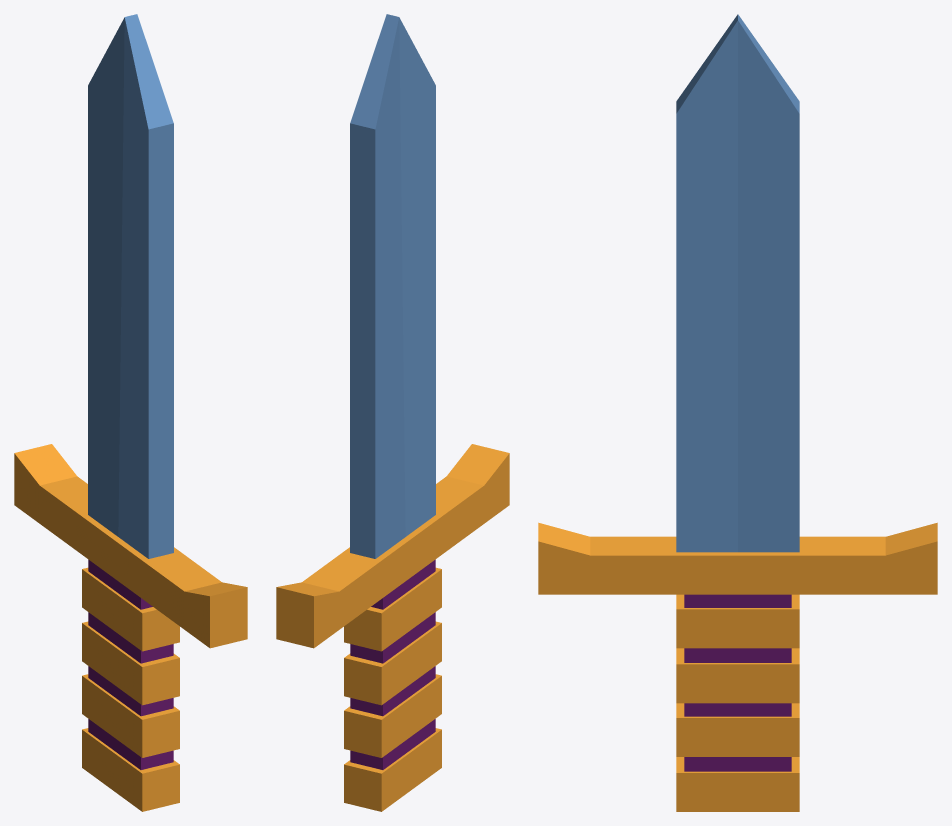
The model's file is diamondSword.glb.
The picture shows the model from 3 angles, left to right: view 1: azimuth 30°, elevation 25°; view 2: azimuth 150°, elevation 25°; view 3: azimuth 270°, elevation 25°; orthographic projection. The views are drawn at different scales.
Visible parts, largest first — view 1: Cube.009, Cube.008, Cube.002, Cube.006, Cube.001, Cube.005, Cube, Cube.007, Cube.003, Cube.004; view 2: Cube.009, Cube.008, Cube.002, Cube.006, Cube.001, Cube.005, Cube, Cube.007, Cube.003, Cube.004; view 3: Cube.009, Cube.008, Cube.006, Cube.001, Cube.005, Cube.002, Cube, Cube.007, Cube.003, Cube.004.
Part boxes in pixels (x1,y1,x2,y2): Cube.009: (88, 14, 173, 558); Cube.008: (14, 444, 247, 648); Cube.002: (82, 674, 179, 757); Cube.006: (82, 621, 179, 705); Cube.001: (82, 728, 179, 811); Cube.005: (82, 567, 179, 651); Cube: (88, 719, 173, 769); Cube.007: (88, 612, 173, 663); Cube.003: (88, 666, 173, 716); Cube.004: (88, 559, 152, 609); Cube.009: (350, 14, 435, 558); Cube.008: (276, 444, 509, 648); Cube.002: (344, 674, 441, 757); Cube.006: (344, 621, 441, 705); Cube.001: (344, 728, 441, 811); Cube.005: (344, 567, 441, 651); Cube: (350, 719, 435, 769); Cube.007: (350, 612, 435, 663); Cube.003: (350, 666, 435, 716); Cube.004: (371, 559, 435, 609); Cube.009: (676, 14, 799, 552); Cube.008: (538, 522, 937, 594); Cube.006: (676, 648, 799, 703); Cube.001: (676, 757, 799, 811); Cube.005: (676, 594, 799, 648); Cube.002: (676, 703, 799, 756); Cube: (684, 757, 791, 771); Cube.007: (684, 648, 791, 662); Cube.003: (684, 703, 791, 716); Cube.004: (684, 594, 791, 607).
Bounding box in the file's own units: 0.7177 × 14.01 × 6.46.
1 material, 1 textured.
